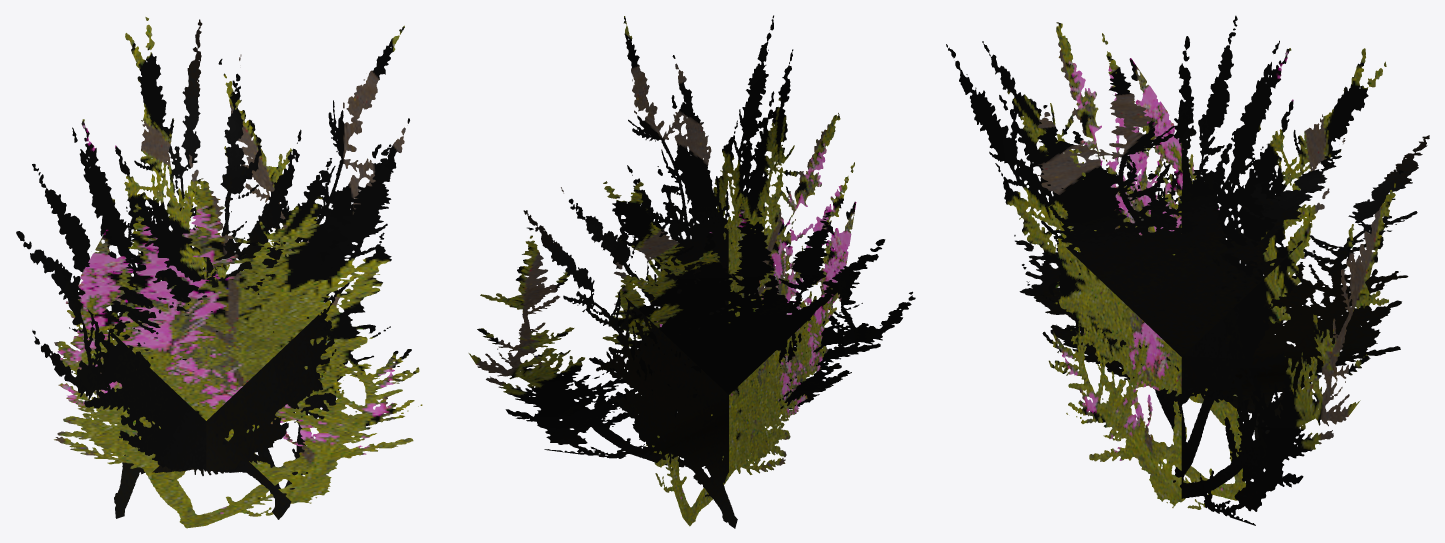
Rendered from heather_05_LOD0.fbx.
3 views of the same model, side by side, from view 1: azimuth 30°, elevation 25°; view 2: azimuth 150°, elevation 25°; view 3: azimuth 270°, elevation 25° (orthographic). The views are drawn at different scales.
Parts seen in each view (by area): view 1: heather_05_LOD0; view 2: heather_05_LOD0; view 3: heather_05_LOD0.
Part boxes in pixels (x1,y1,x2,y2): heather_05_LOD0: [16, 17, 422, 528]; heather_05_LOD0: [468, 15, 915, 528]; heather_05_LOD0: [946, 15, 1429, 525].
Size of the model in its own units: 83.11 by 97.96 by 83.67.
